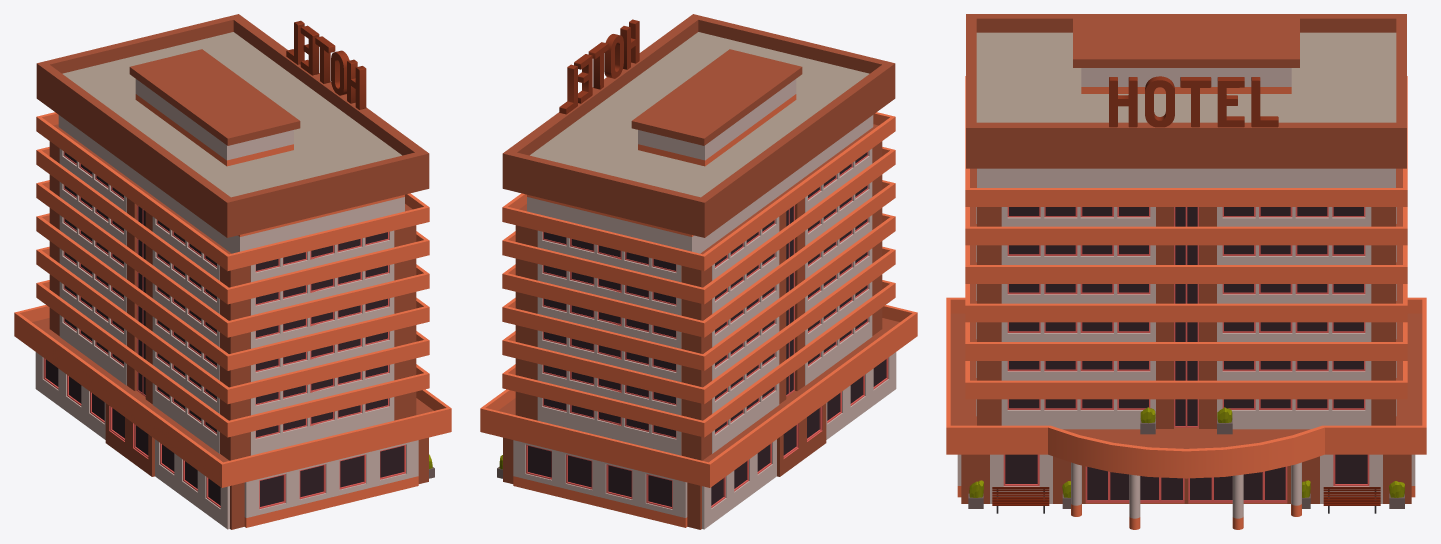
File: PublicBuilding_2C.fbx
3 renders of one model, left to right at view 1: azimuth 30°, elevation 25°; view 2: azimuth 150°, elevation 25°; view 3: azimuth 270°, elevation 25°, orthographic. The views are drawn at different scales.
Visible parts, largest first — view 1: PublicBuilding; view 2: PublicBuilding; view 3: PublicBuilding.
Boxes of the visible parts, left/top/right/bottom form: PublicBuilding: left=14, top=14, right=451, bottom=529; PublicBuilding: left=480, top=14, right=917, bottom=529; PublicBuilding: left=946, top=14, right=1426, bottom=529.
Size of what is drawn, in the model's own units: 751 by 967 by 992.
1 material, 1 textured.
